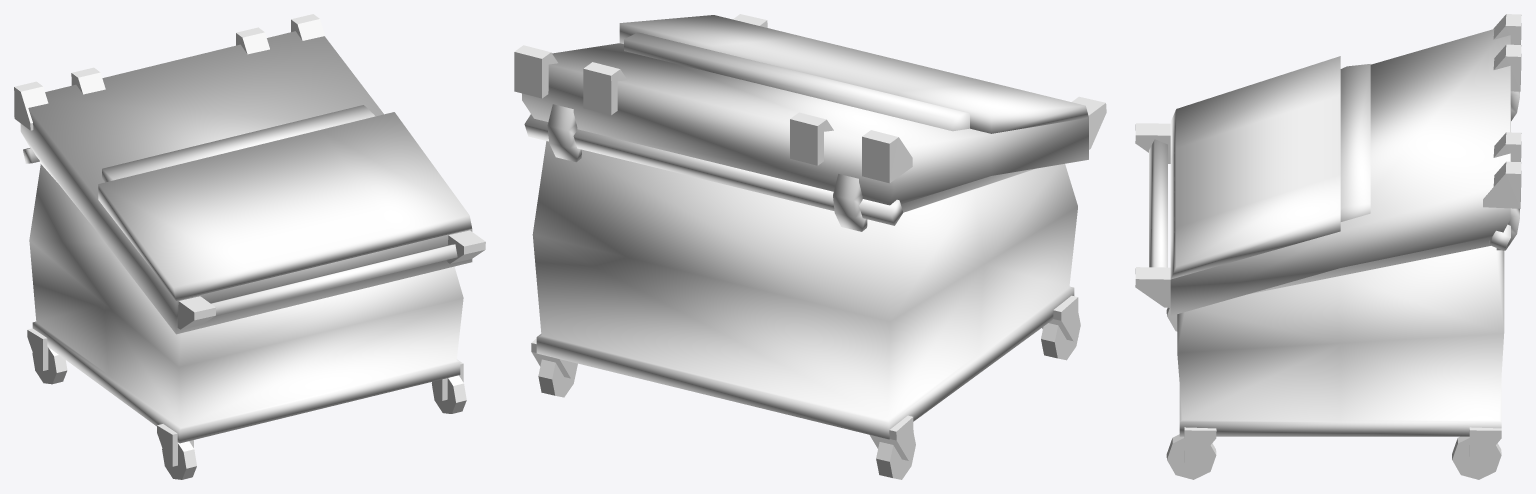
File: metalicTrashcontainer.glb
3 renders of one model, left to right at view 1: azimuth 30°, elevation 25°; view 2: azimuth 150°, elevation 25°; view 3: azimuth 270°, elevation 25°, orthographic. The views are drawn at different scales.
Visible parts, largest first — view 1: metalic_Trash_container; view 2: metalic_Trash_container; view 3: metalic_Trash_container.
Part boxes in pixels (<box>): metalic_Trash_container: <box>14,14,485,479</box>; metalic_Trash_container: <box>514,14,1106,479</box>; metalic_Trash_container: <box>1135,14,1521,479</box>.
Bounding box in the file's own units: 2.2 × 2 × 2.24.
Materials: 2 (2 with a texture image).
